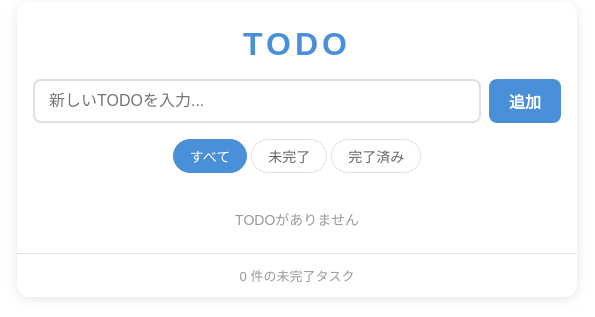
Scenario: TodoApp › TODO追加 › テキストを入力して追加ボタンをクリックするとTODOが追加される
In the field with placeholder "新しいTODOを入力...": (257, 101) 33,79 -> 481,123, type "買い物に行く"
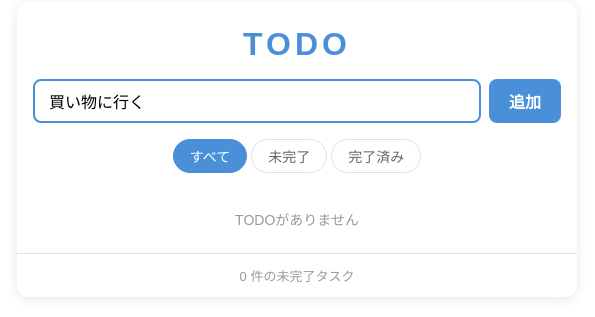
Click the button "追加": (525, 101) 489,79 -> 561,123
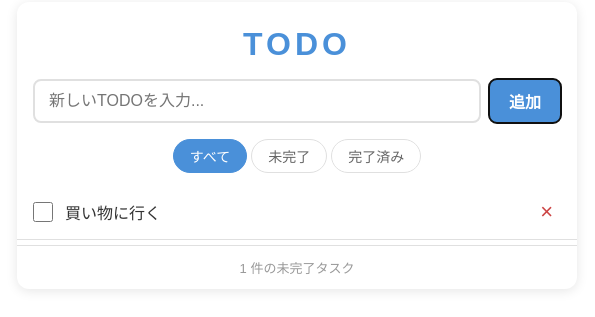
Expected: the text "買い物に行く" is shown, 65,200 -> 161,224
Expected: the list item "TODOがありません" is gone
Expected: the text "1 件の未完了タスク" is shown, 240,261 -> 354,276
